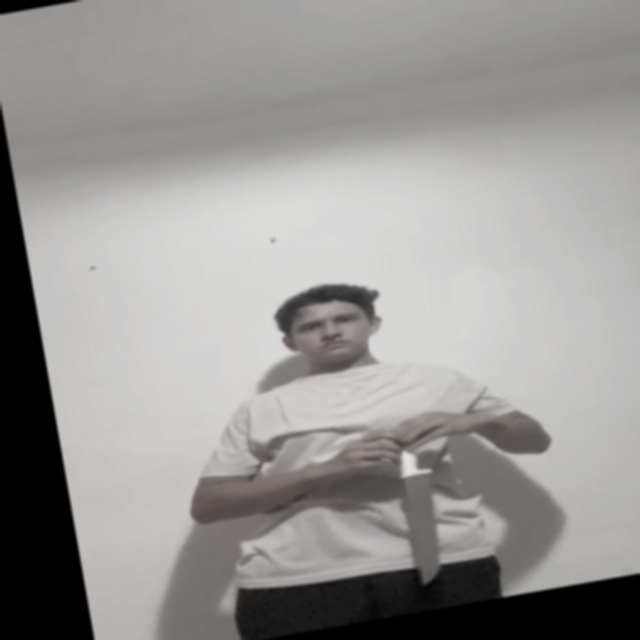Sharp-Object: (402, 474, 456, 584)
